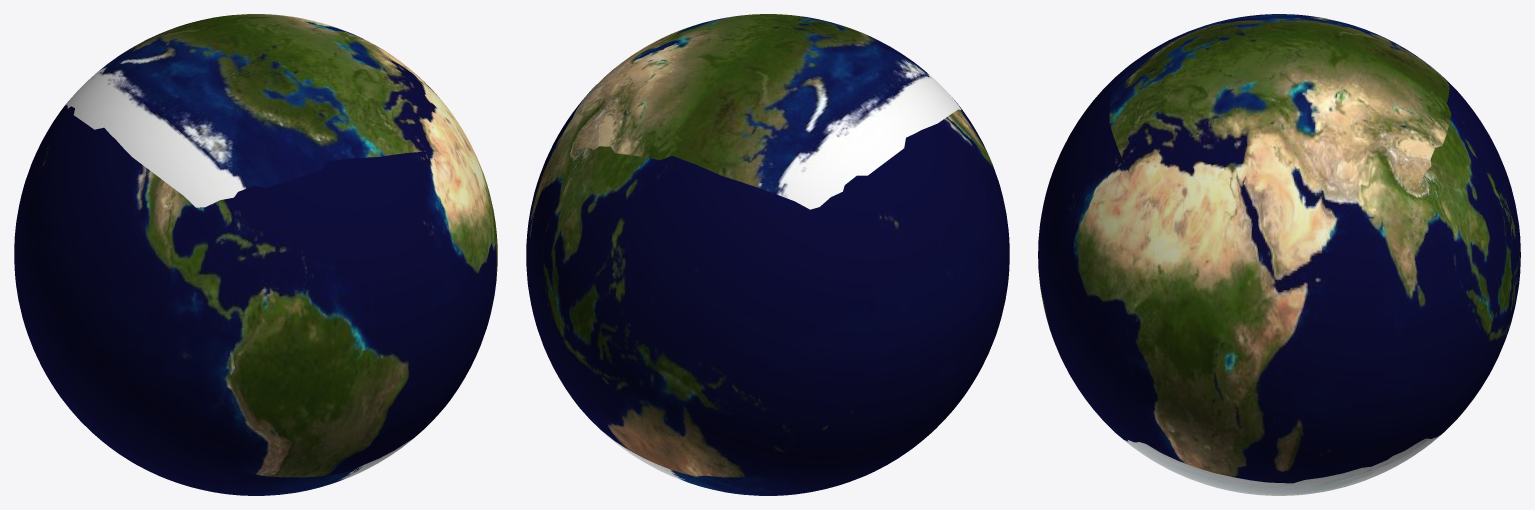
Rendered from earth.glb.
3 renders of one model, left to right at view 1: azimuth 30°, elevation 25°; view 2: azimuth 150°, elevation 25°; view 3: azimuth 270°, elevation 25°, orthographic.
Parts seen in each view (by area): view 1: Earth_surface_Cube.001; view 2: Earth_surface_Cube.001; view 3: Earth_surface_Cube.001.
Part boxes in pixels (x1=…): Earth_surface_Cube.001: x1=14, y1=14, x2=497, y2=495; Earth_surface_Cube.001: x1=526, y1=14, x2=1009, y2=495; Earth_surface_Cube.001: x1=1038, y1=14, x2=1520, y2=495.
Size of the model in its own units: 1.99 by 1.99 by 1.99.
Materials: 1 (1 with a texture image).
